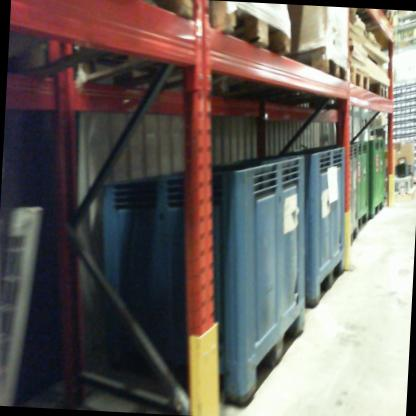pallet: (12, 0, 200, 107), (123, 0, 297, 110), (274, 46, 351, 90), (338, 68, 373, 101), (387, 181, 416, 204), (366, 80, 389, 102)
